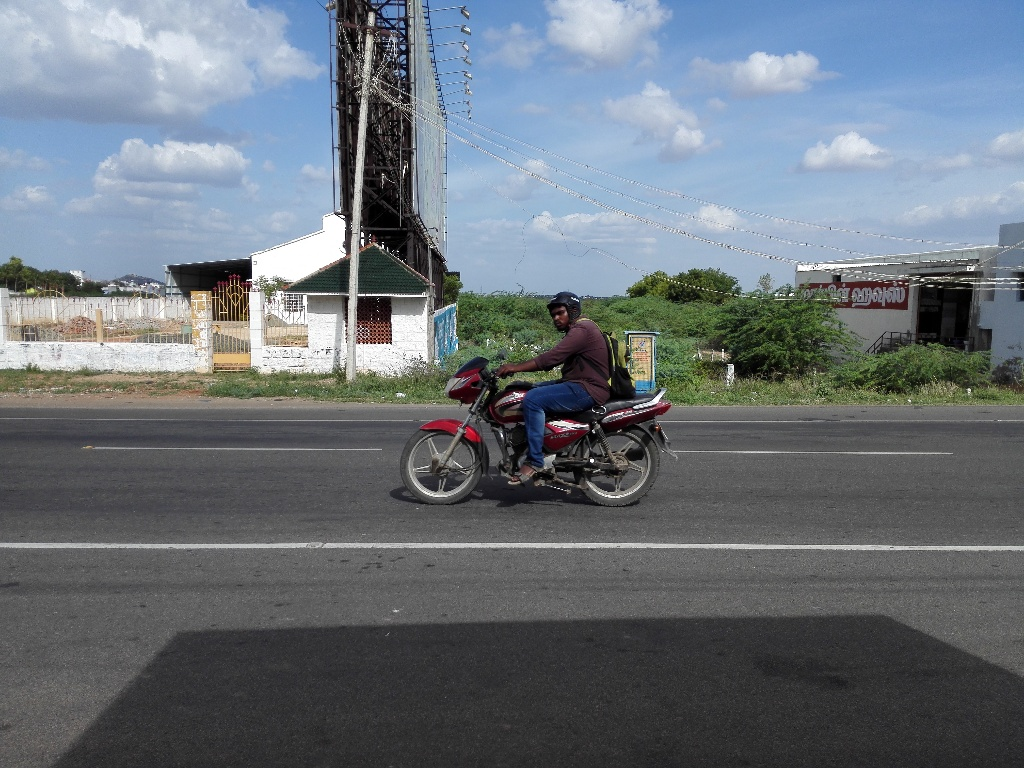biker: (387, 255, 694, 520)
helmet: (543, 278, 594, 343)
